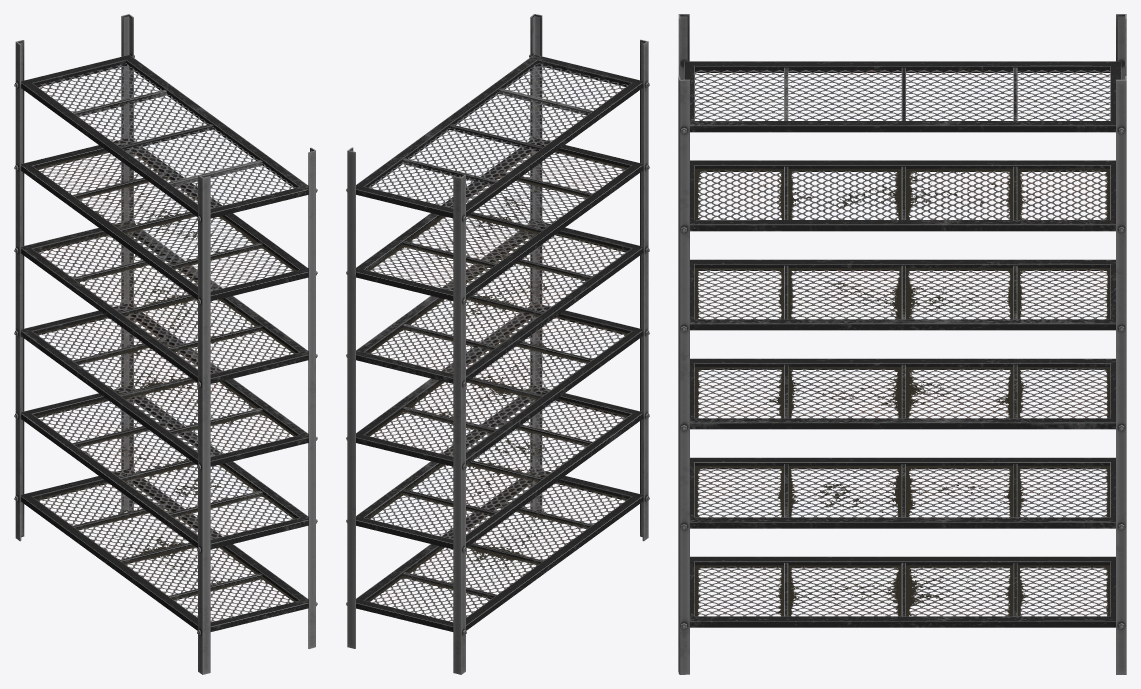
The model's file is metal_shelf.glb.
3 views of the same model, side by side, from view 1: azimuth 30°, elevation 25°; view 2: azimuth 150°, elevation 25°; view 3: azimuth 270°, elevation 25° (orthographic). The views are drawn at different scales.
Visible parts, largest first — view 1: Cloner_1; view 2: Cloner_1; view 3: Cloner_1.
Boxes of the visible parts, x1=… form: Cloner_1: x1=14, y1=14, x2=317, y2=674; Cloner_1: x1=346, y1=14, x2=649, y2=674; Cloner_1: x1=678, y1=14, x2=1126, y2=674.
Bounding box in the file's own units: 0.7591 × 3 × 2.05.
1 material, 1 textured.
